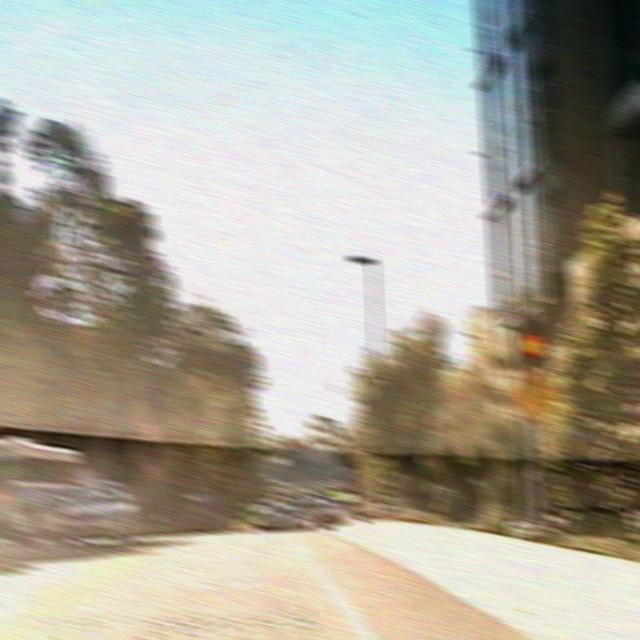pedestrianCrossing: (508, 361, 559, 426)
